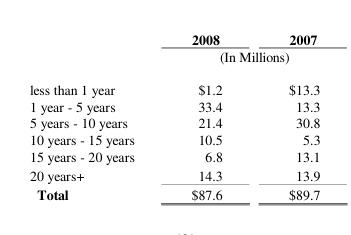table: (28, 29, 319, 204)
table column: (28, 29, 162, 204), (162, 29, 255, 204), (255, 29, 319, 204)
table column header: (28, 29, 319, 71)
table row: (28, 71, 319, 96), (28, 47, 319, 71), (28, 164, 319, 184), (28, 184, 319, 204), (28, 29, 319, 47), (28, 146, 319, 164), (28, 96, 319, 113), (28, 113, 319, 130), (28, 130, 319, 146)
table spanning cell: (162, 47, 319, 71)
